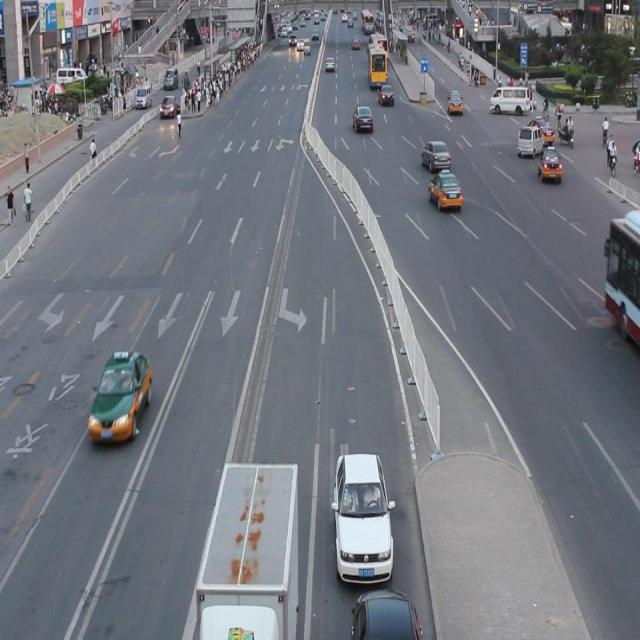bus: (195, 460, 298, 640)
car: (333, 449, 393, 584), (88, 348, 152, 444), (351, 586, 421, 640), (427, 170, 462, 210)
van: (603, 216, 640, 348)
